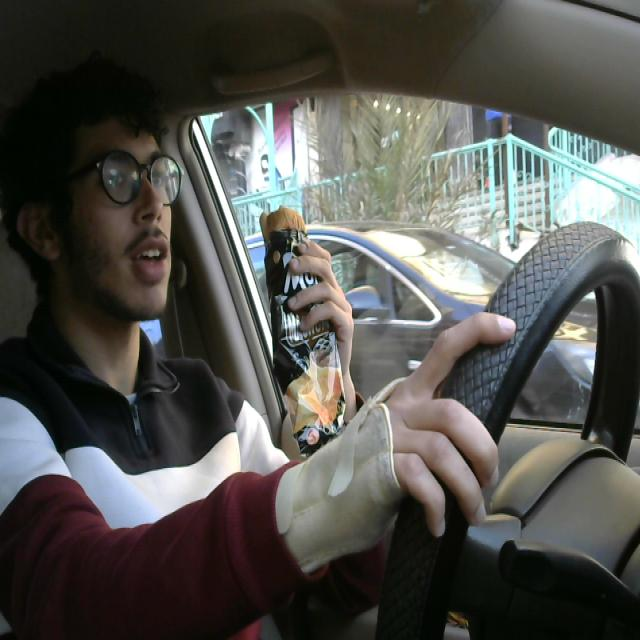eating: (257, 205, 352, 459)
